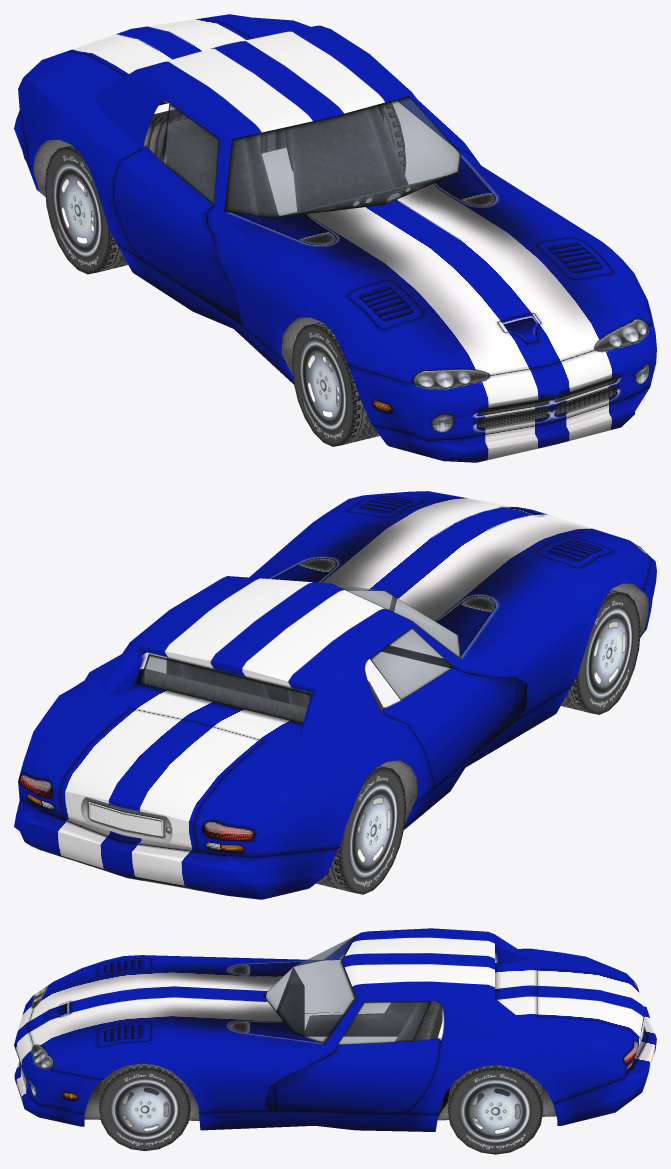
3 renders of one model, top to bottom at view 1: azimuth 30°, elevation 25°; view 2: azimuth 150°, elevation 25°; view 3: azimuth 270°, elevation 25°, orthographic. The views are drawn at different scales.
Parts seen in each view (by area): view 1: BODY, INTERIOR, WHEEL_0, WHEEL_2, WHEEL_3; view 2: BODY, WHEEL_2, WHEEL_0, INTERIOR; view 3: BODY, WHEEL_3, WHEEL_1, INTERIOR.
Part boxes in pixels (x1,y1,x2,y2): BODY: [14, 14, 656, 462]; INTERIOR: [166, 105, 449, 217]; WHEEL_0: [292, 322, 379, 446]; WHEEL_2: [45, 145, 127, 274]; WHEEL_3: [285, 103, 406, 174]; BODY: [14, 491, 656, 899]; WHEEL_2: [316, 766, 406, 894]; WHEEL_0: [561, 590, 640, 714]; INTERIOR: [134, 645, 452, 722]; BODY: [14, 928, 656, 1131]; WHEEL_3: [448, 1065, 543, 1154]; WHEEL_1: [99, 1063, 190, 1150]; INTERIOR: [276, 967, 451, 1116].
Size of the model in its own units: 1.89 by 1.13 by 4.59.
Materials: 21 (21 with a texture image).
